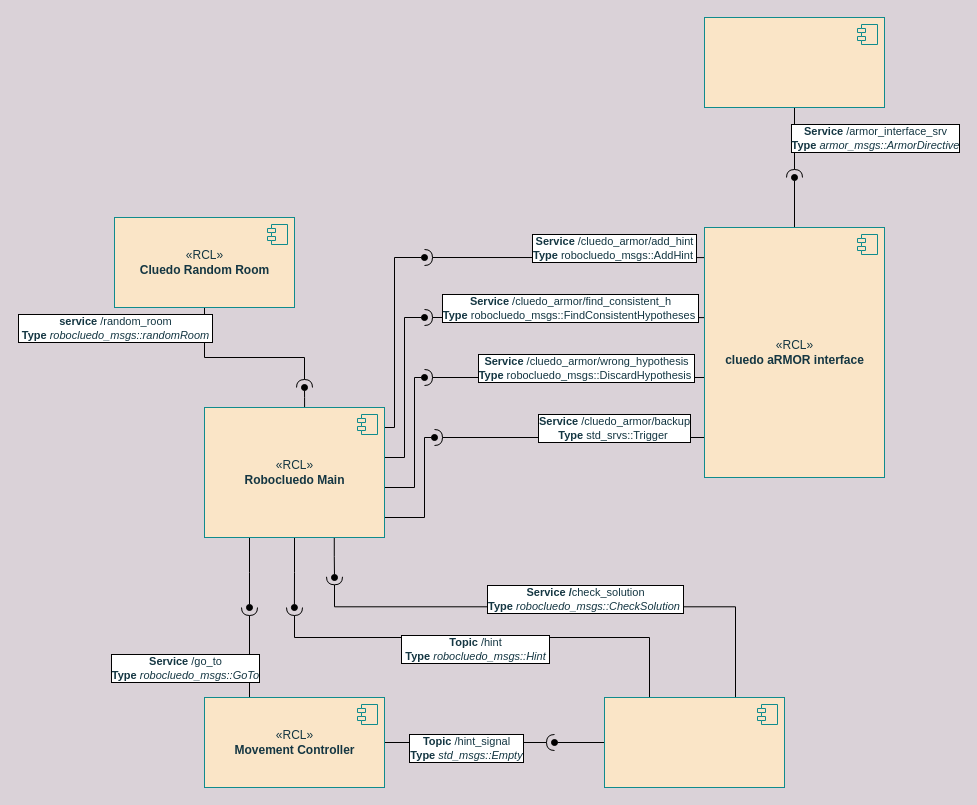
Some shapes in this 977 by 805 pixel diagram are drawn without their labels. Each missing label, with the centre of its shape:
«aRMOR» aRMOR ontology service: point (794, 62)
«External component» Cluedo Oracle: point (694, 742)
